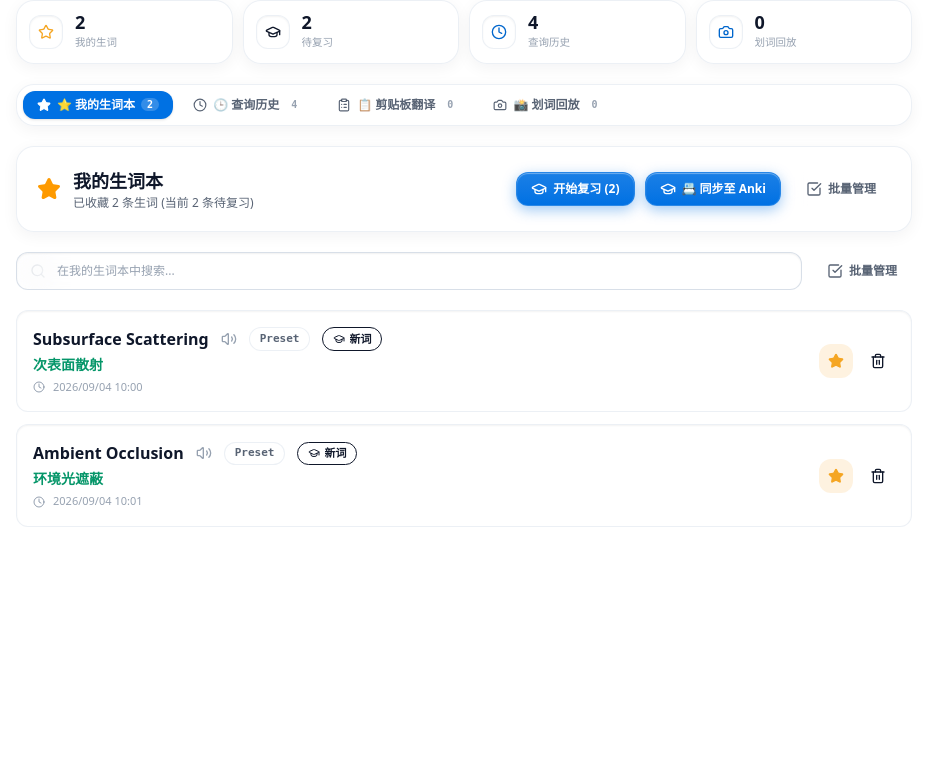
Scenario: Vocabulary and History physical separation › switches to "查询历史" tab and displays all history items
Check: the text "Subsurface Scattering" is shown, box x1=33 y1=327 x2=209 y2=351
# Click "🕒 查询历史" subtab
Click the button "🕒 查询历史 4" at (248, 105), box x1=179 y1=91 x2=317 y2=119
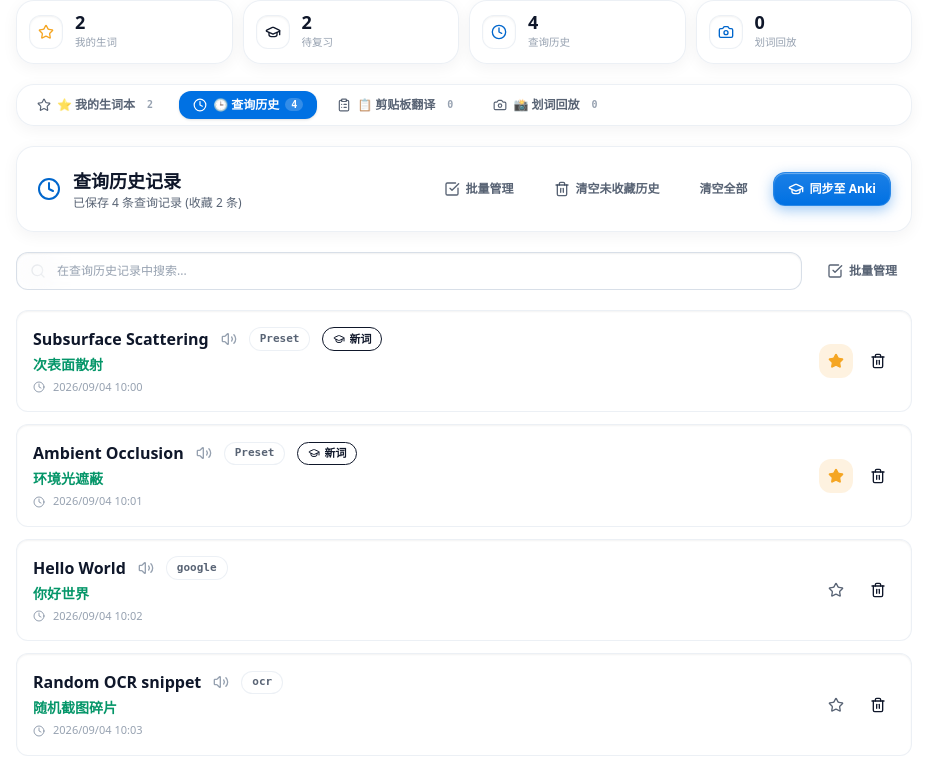
Check: the text "Hello World" is shown, box x1=33 y1=556 x2=126 y2=580
Check: the text "Random OCR snippet" is shown, box x1=33 y1=670 x2=201 y2=694
Check: the heading "查询历史记录" is shown, box x1=73 y1=169 x2=181 y2=193
